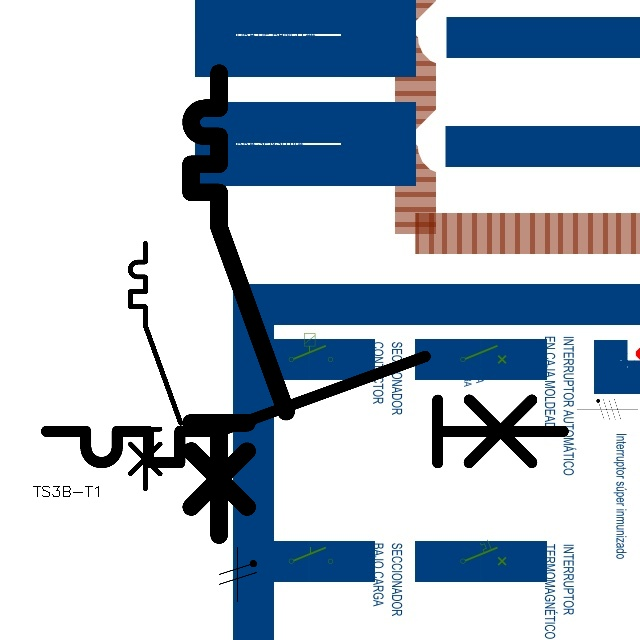interruptor_termomagnetico: (33, 343, 577, 476), (179, 61, 298, 547), (124, 237, 187, 495)
